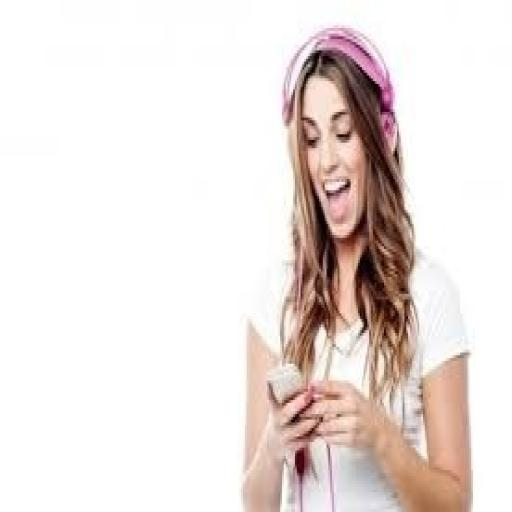listening_to_music: (237, 22, 475, 510)
